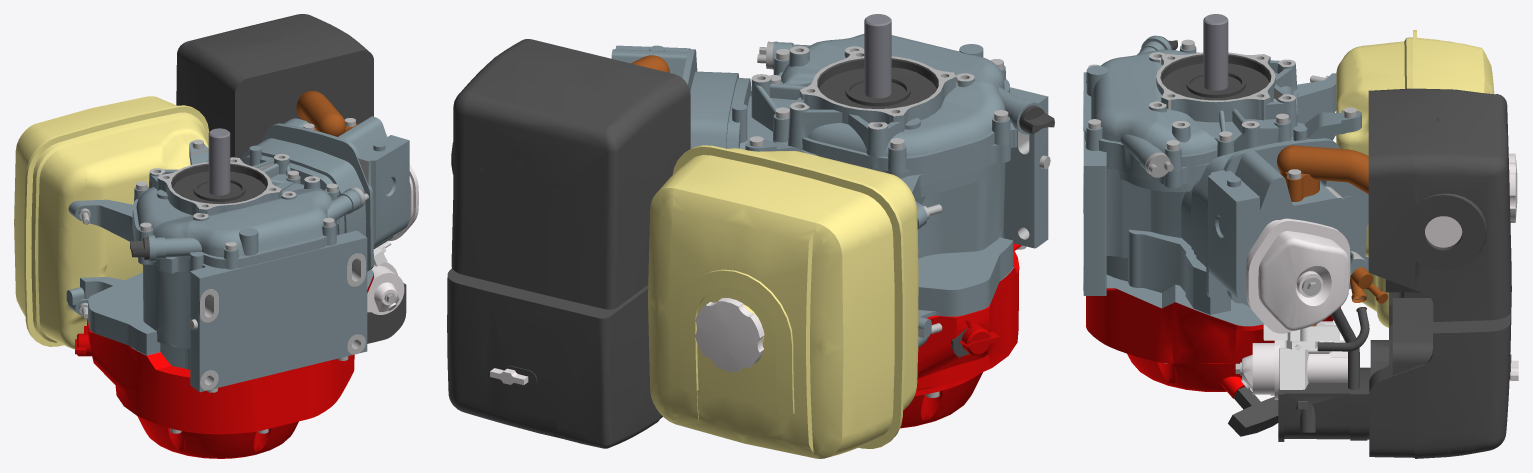
The model's file is motor.glb.
3 views of the same model, side by side, from view 1: azimuth 30°, elevation 25°; view 2: azimuth 150°, elevation 25°; view 3: azimuth 270°, elevation 25° (orthographic). The views are drawn at different scales.
Parts seen in each view (by area): view 1: MD081; view 2: MD081; view 3: MD081.
Part boxes in pixels (x1=…): MD081: x1=14, y1=14, x2=418, y2=458; MD081: x1=447, y1=14, x2=1054, y2=458; MD081: x1=1083, y1=14, x2=1518, y2=458.
Bounding box in the file's own units: 0.4612 × 0.399 × 0.4382.
